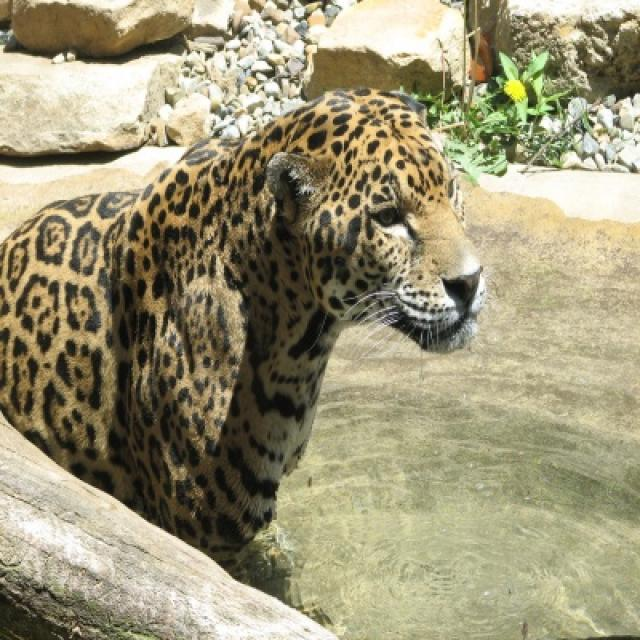Jaguar: (0, 72, 502, 594)
